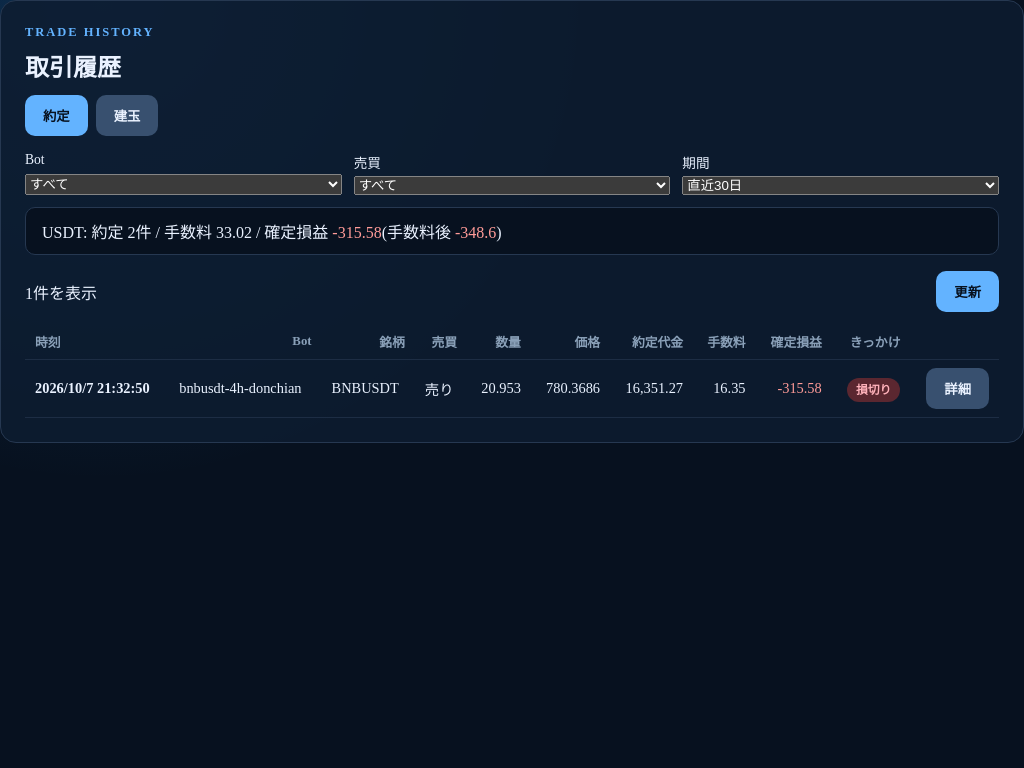
Test: opens the order details of a fill and closes them again
Expected: the text "クライアント注文ID" is not shown
Click the button "詳細": (958,389) [926, 368, 989, 409]
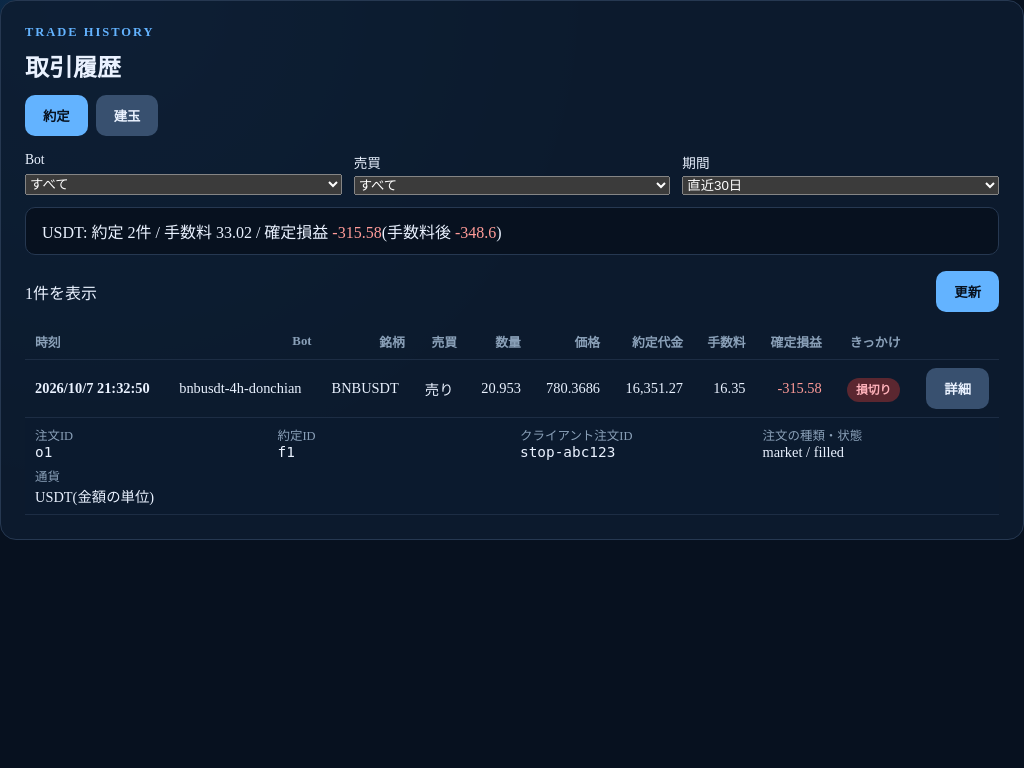
Expected: the text "stop-abc123" is shown, [520, 444, 615, 460]
Expected: the text "market / filled" is shown, [762, 444, 844, 460]
Click the button "詳細": (958,389) [926, 368, 989, 409]
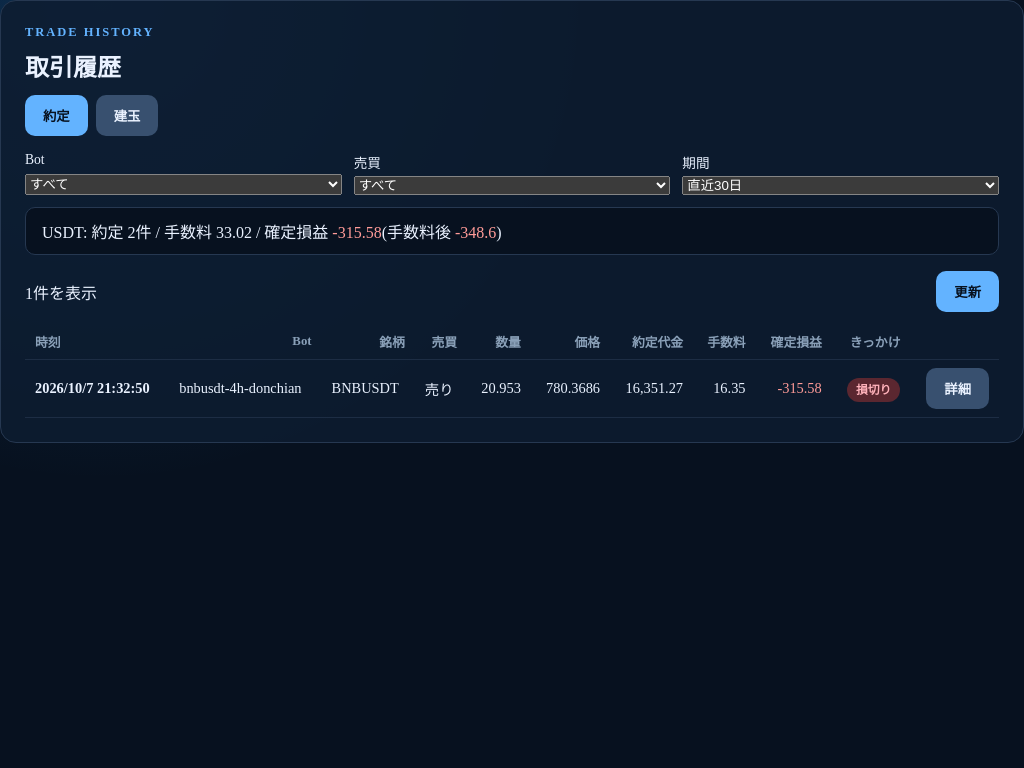
Expected: the text "stop-abc123" is gone
